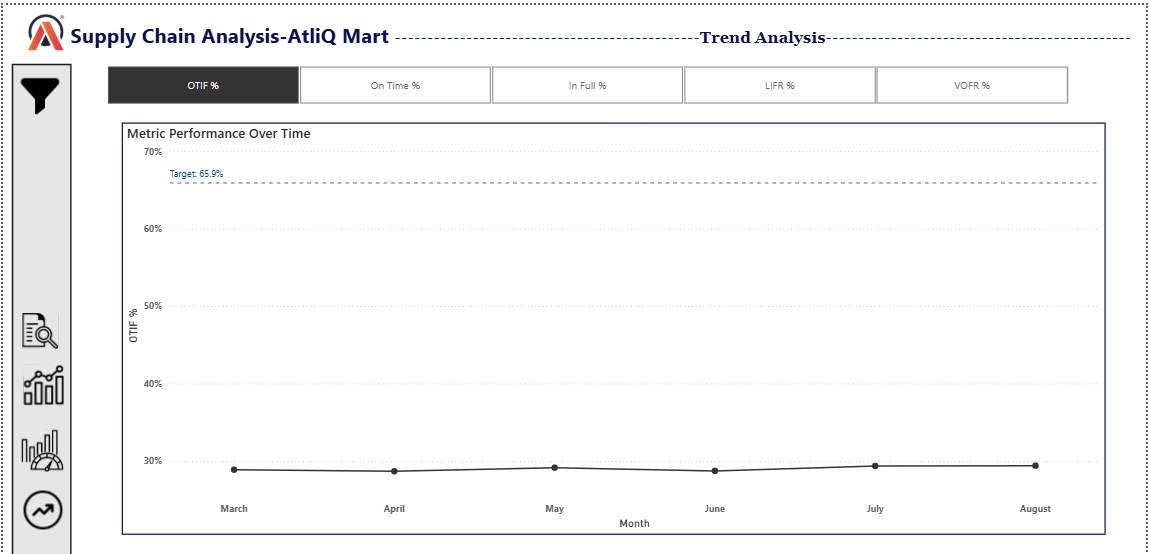

Layout of this report page (visuals, bound fields, positions):
{"tool":"powerbi","page":{"name":"Trend Page","canvas":[1500,720],"ordinal":3},"visuals":[{"type":"group","id":"g1","title":"topic","box":[11.5,11.5,1478.5,63.3],"z":0},{"type":"image","box":[11.5,11.5,90.9,47.6],"z":0,"group":"g1"},{"type":"shape","box":[11.2,77.2,78.7,646.1],"z":0,"group":"g2"},{"type":"textbox","box":[83.3,15.7,1406.7,59.2],"z":1000,"group":"g1"},{"type":"slicer","fields":{"Values":["Metric Selector.Metric Selector"]},"box":[111.9,73.6,1308.6,62.6],"z":1000},{"type":"actionButton","box":[22,463.3,61.2,69.7],"z":1000,"group":"g2"},{"type":"lineChart","title":"Metric Performance Over Time","fields":{"Y":["fact_orders_aggregate.OTIF %"],"Category":["dim_date.date.Variation.Date Hierarchy.Quarter","dim_date.date.Variation.Date Hierarchy.Month","dim_date.date.Variation.Date Hierarchy.Day","dim_date.week_no"]},"box":[155.5,153.9,1290,541],"z":2000},{"type":"actionButton","box":[19,551.8,67.2,64.4],"z":2000,"group":"g2"},{"type":"group","id":"g2","title":"side panel","box":[11.2,77.2,78.7,646.1],"z":3000},{"type":"actionButton","box":[22,633.6,61.2,59],"z":3000,"group":"g2"},{"type":"actionButton","box":[15.2,81.2,67.6,72.7],"z":4000},{"type":"actionButton","box":[20.5,400.3,64.2,55],"z":4000,"group":"g2"}]}

Visuals, with their boxes in screenshot pixels (x1, y1, x2, y2), scaled from the page's 1500x720 canvas onto the 1150x554 screenshot:
"topic" group: 9,9,1142,58
image: 9,9,79,45
shape: 9,59,69,553
textbox: 64,12,1142,58
slicer - Metric Selector.Metric Selector: 86,57,1089,105
actionButton: 17,356,64,410
"Metric Performance Over Time" lineChart: 119,118,1108,535
actionButton: 15,425,66,474
"side panel" group: 9,59,69,553
actionButton: 17,488,64,533
actionButton: 12,62,63,118
actionButton: 16,308,65,350
